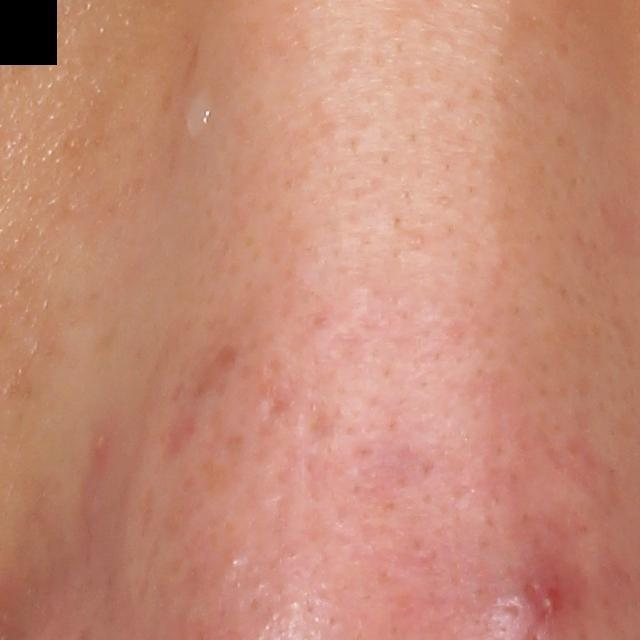atrophic_scar: (299, 402, 342, 443)
